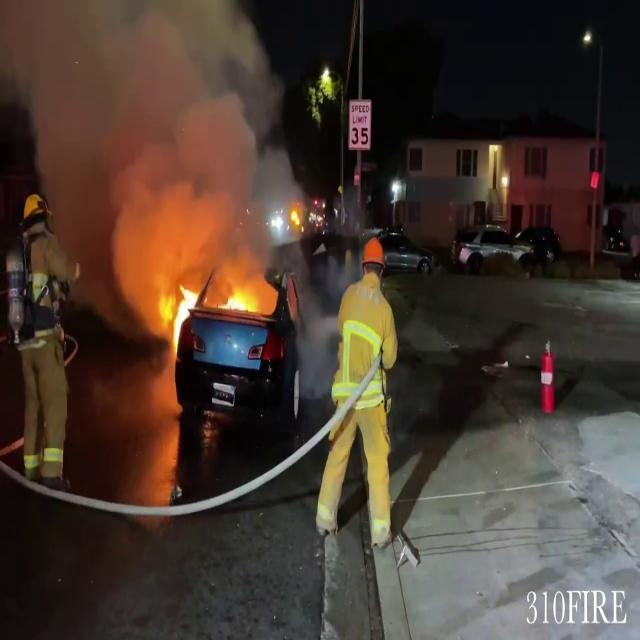Fire: (162, 278, 198, 372), (220, 276, 264, 321)
Smoke: (0, 0, 294, 276)
